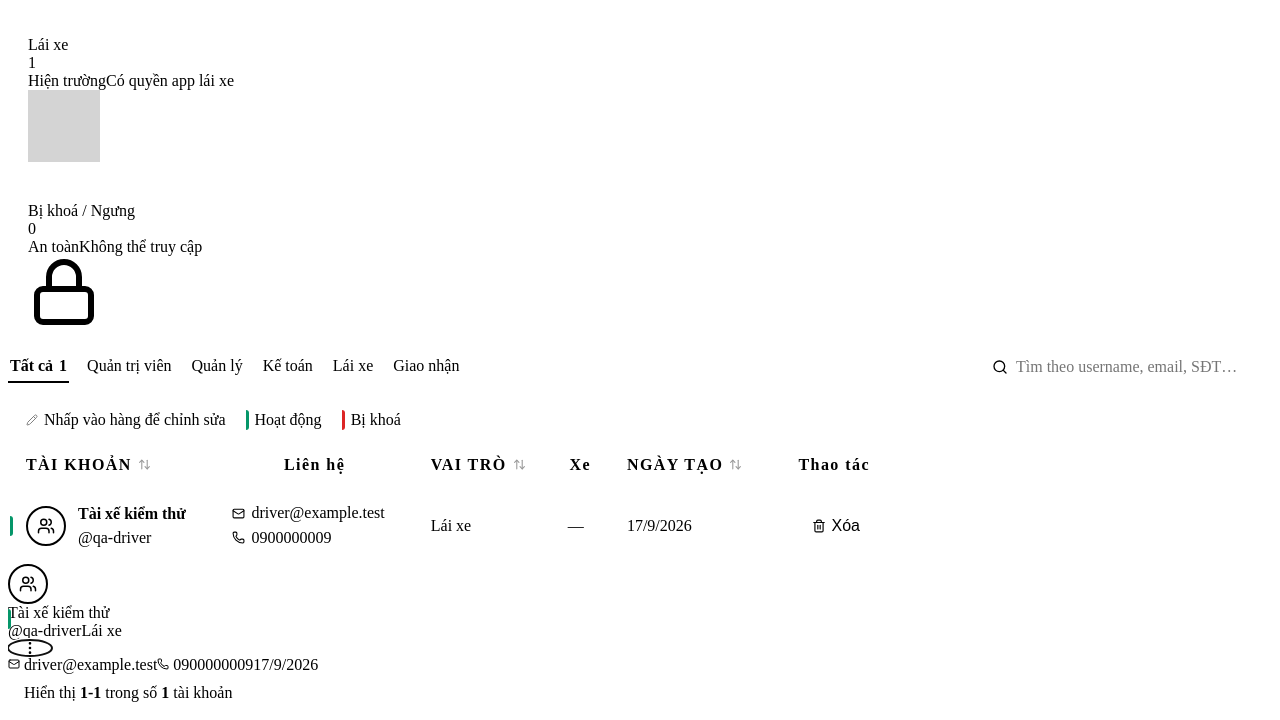
Scenario: dismisses the user action menu with Escape and returns focus without editing or deleting
The image size is (1280, 720).
(page scrolled)
Click the button named "Mở thao tác cho Tài xế kiểm thử" at (30, 648), box [8,640,52,656]
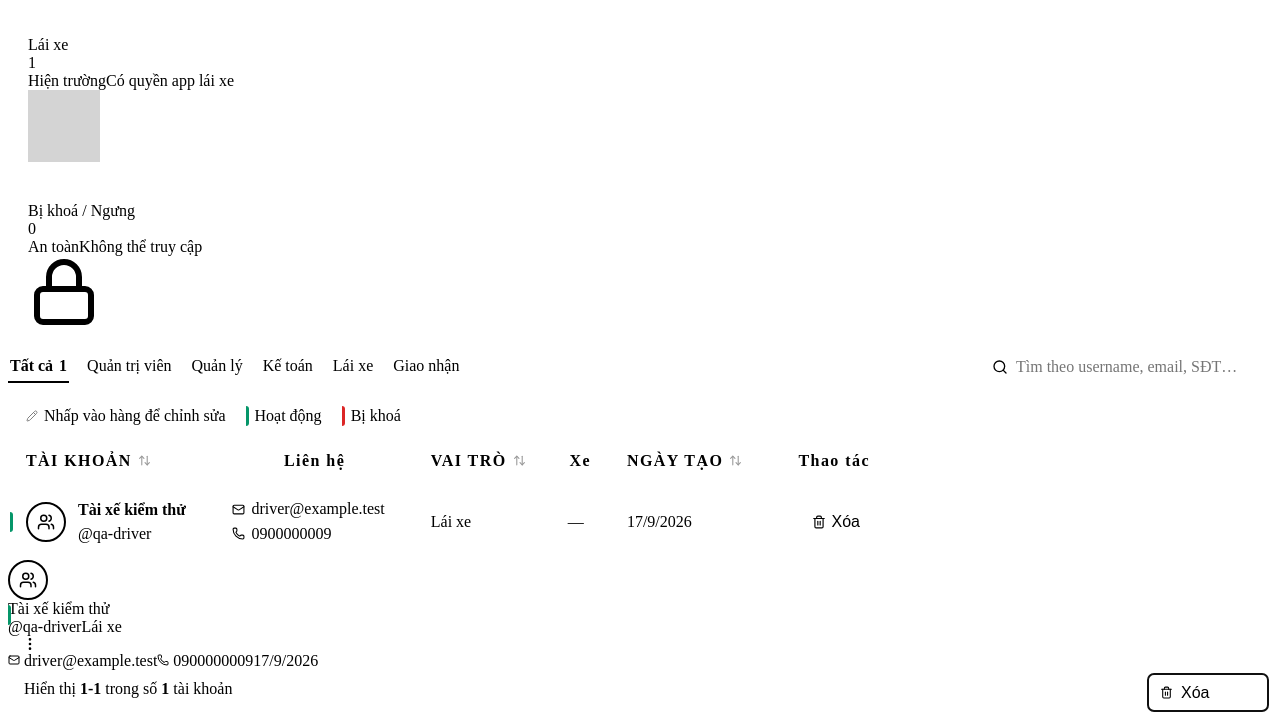
Press Escape in the menu item "Xóa", box [1148,674,1268,711]
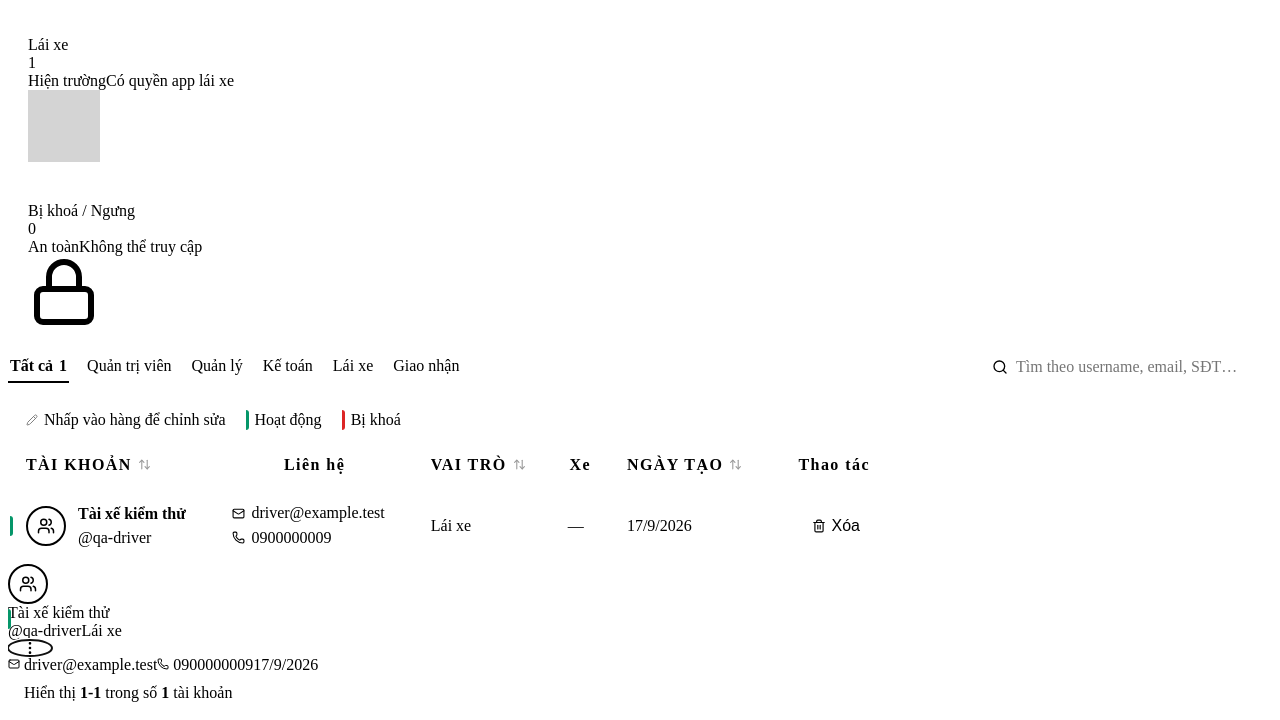
Expected: the menu is gone
Expected: the button named "Mở thao tác cho Tài xế kiểm thử" is collapsed, [8,640,52,656]
